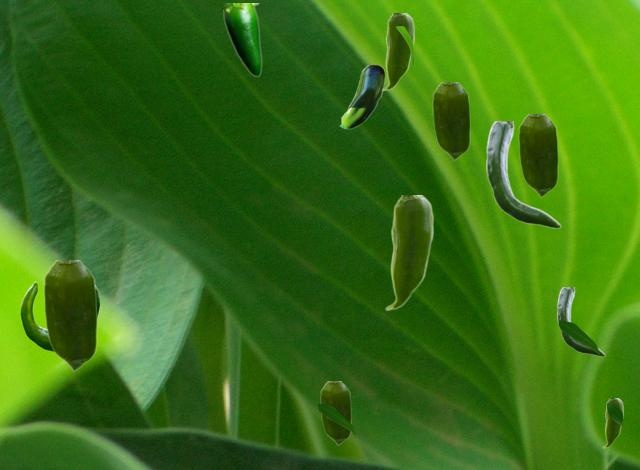green_chili: (486, 121, 560, 227), (43, 260, 96, 370), (384, 195, 432, 310), (20, 281, 99, 350), (518, 114, 557, 196), (557, 287, 604, 355), (432, 82, 469, 159), (223, 3, 261, 76), (339, 65, 383, 128), (381, 13, 413, 90), (320, 381, 350, 444), (602, 398, 622, 447)
